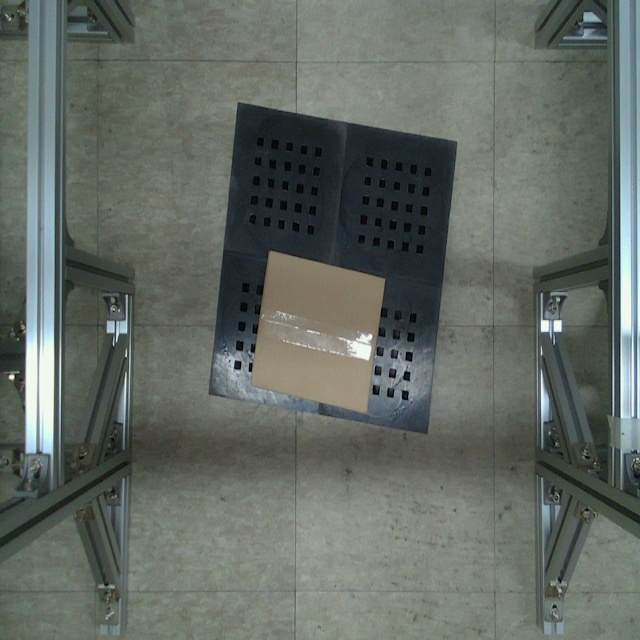box: (250, 248, 384, 416)
pallet: (199, 89, 466, 452)
